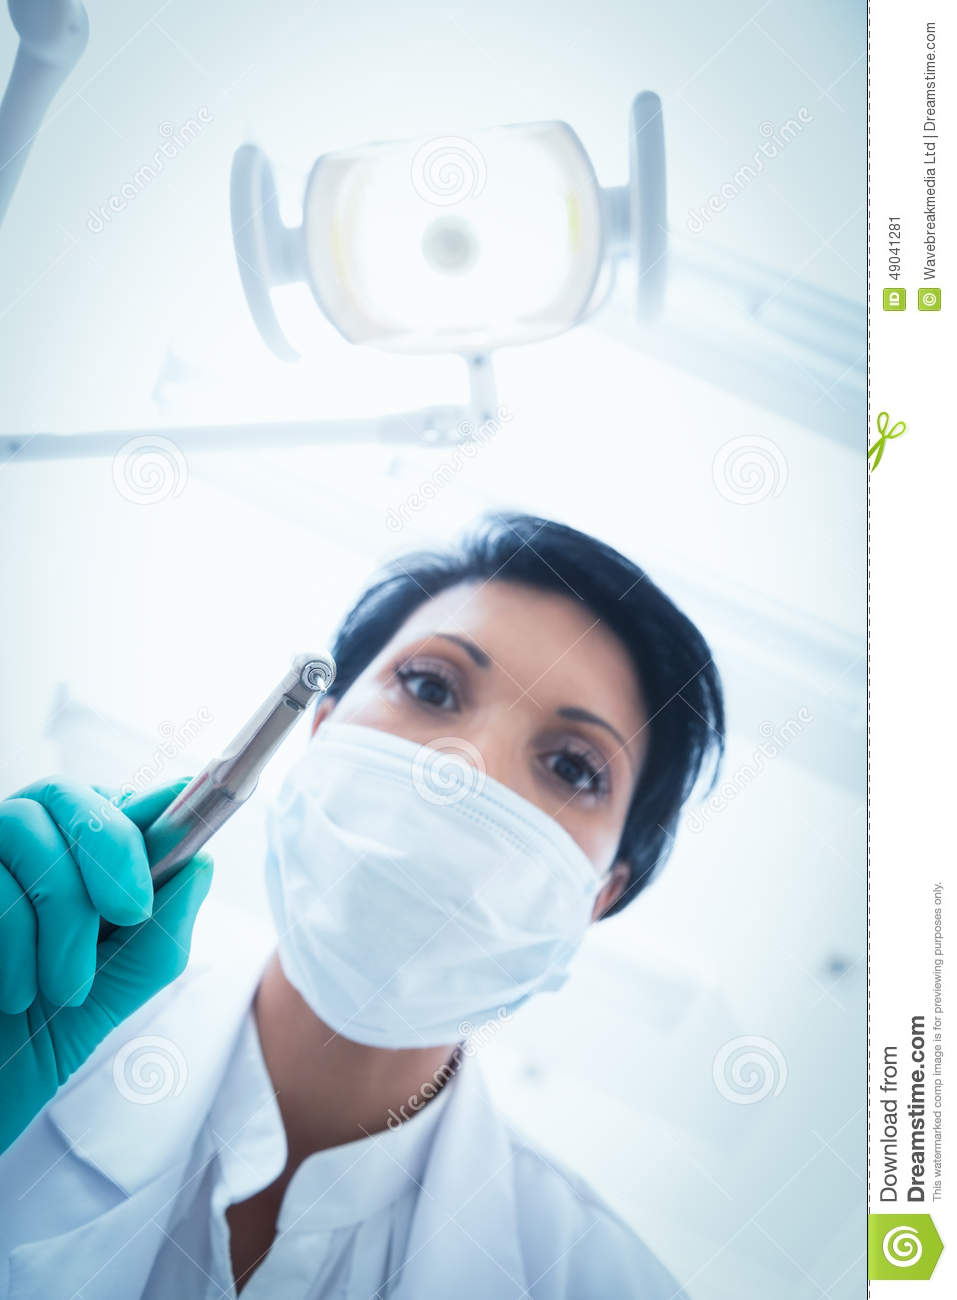mask: (246, 727, 594, 1079)
